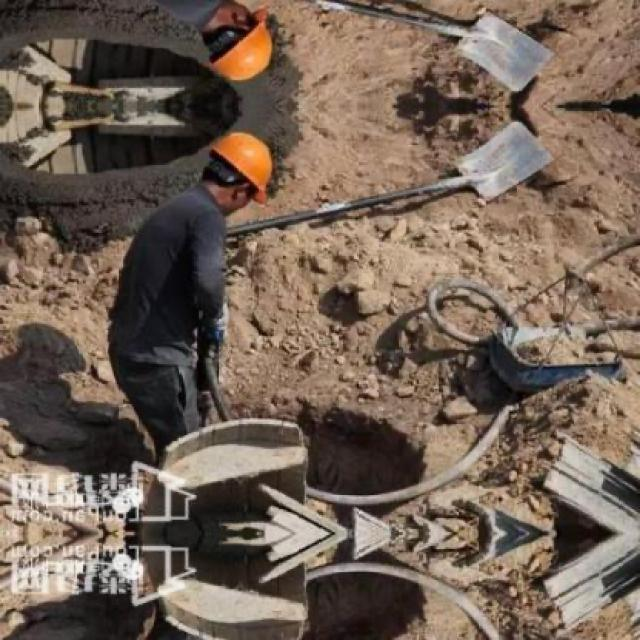helmet: (194, 128, 280, 217), (193, 0, 280, 86)
